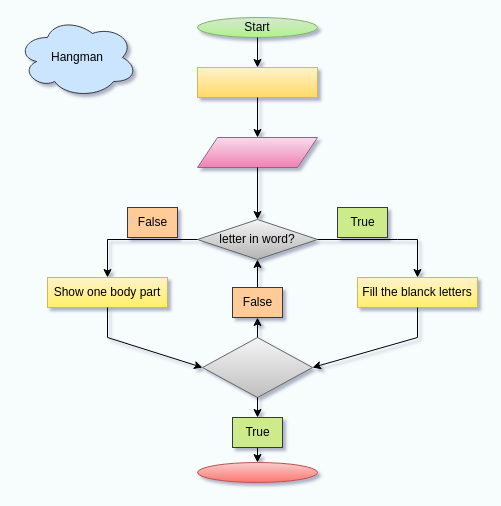
The diagram is 501 pixels wide and 506 high, and some of its shapes have lost their labels. The shapes that lost their labels are listed below. From the top down, each one's box as (x1, y1, x2, y2) in pixels, then its label:
(196, 66, 318, 98): Choosing a random word by computer
(196, 136, 318, 168): Guess a letter
(202, 336, 312, 398): word or body completed?
(196, 462, 318, 482): End
